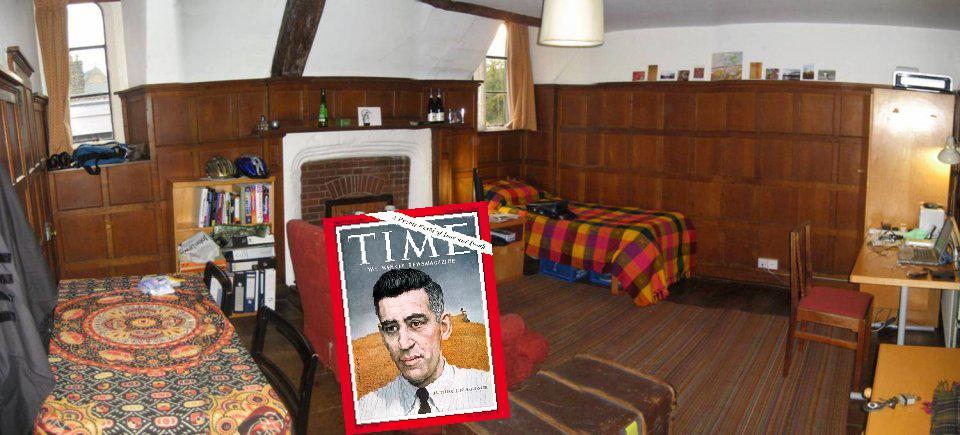times: (313, 194, 513, 435)
